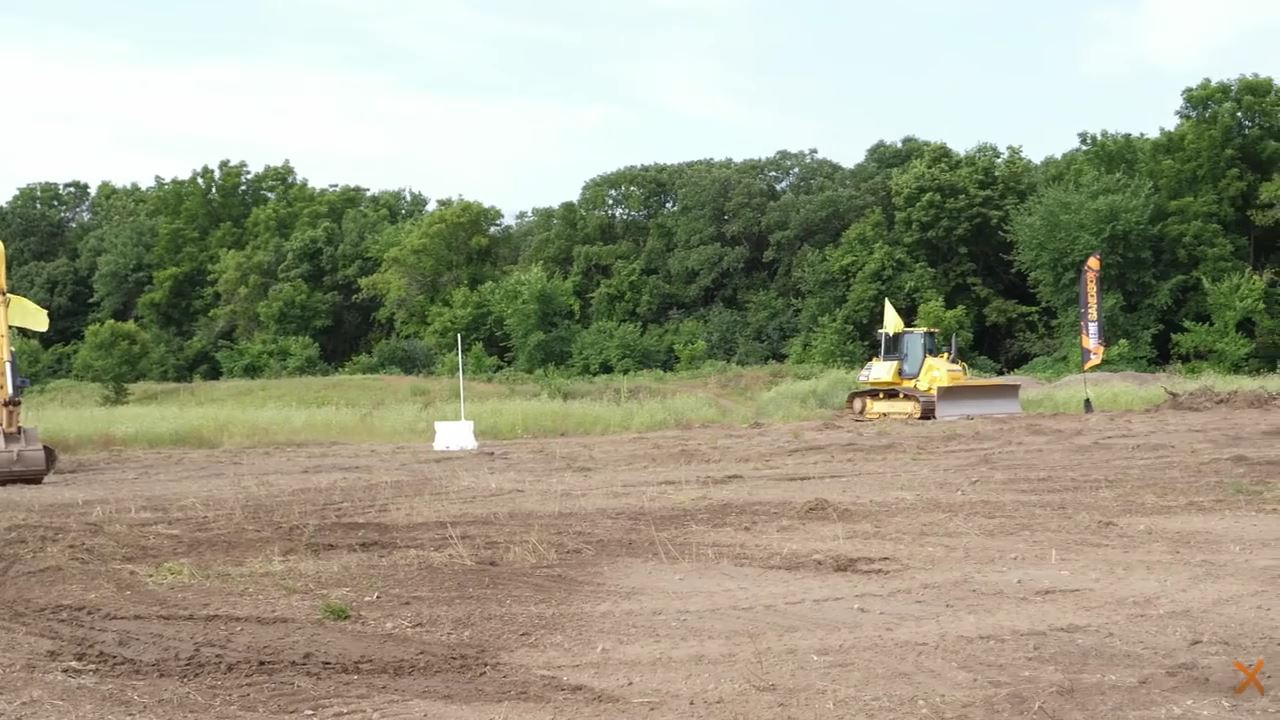con_eq: (843, 316, 1023, 424), (5, 286, 74, 490)
